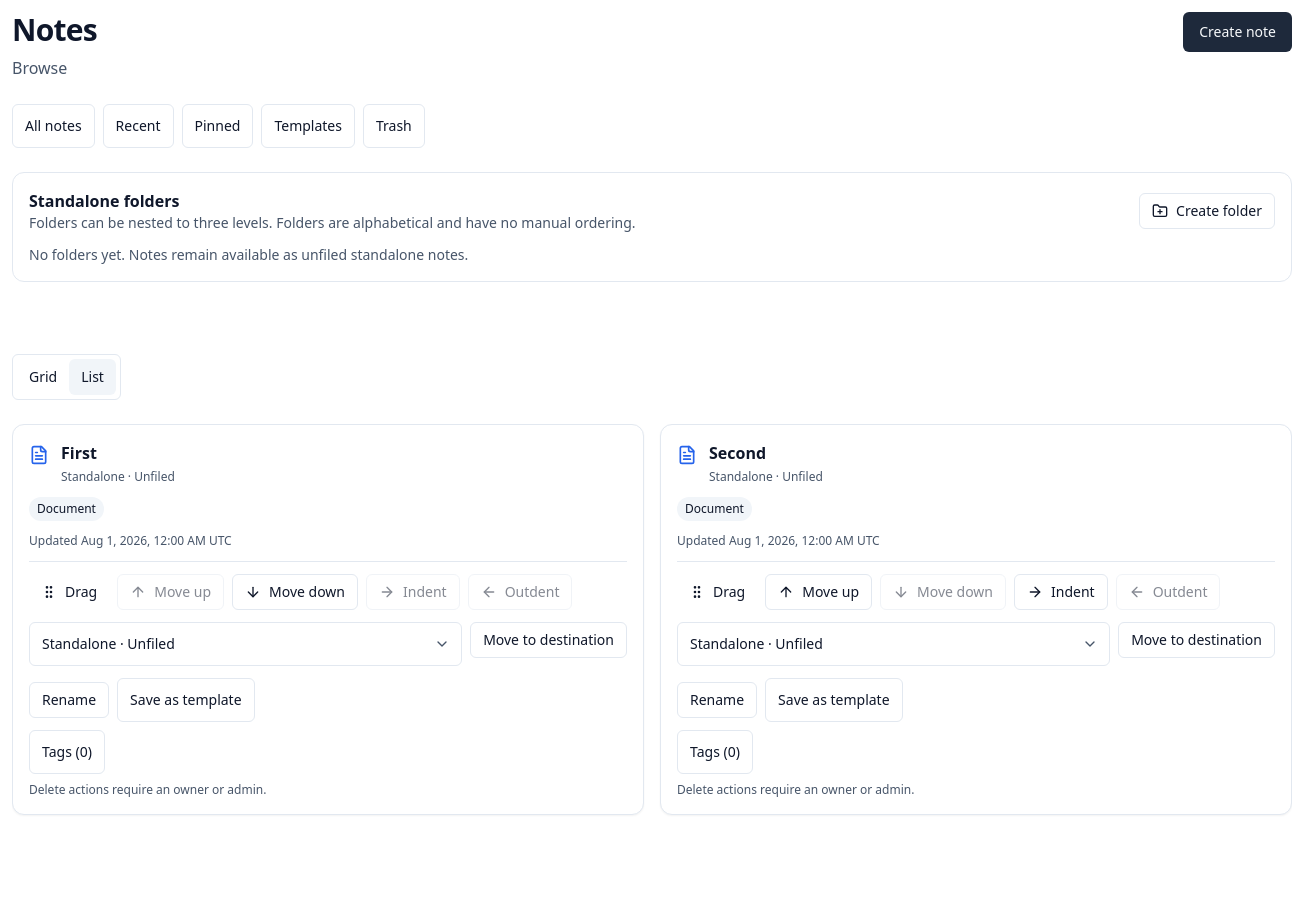
NoteBrowser optimistic behavior › restores the exact previous title/version on a 409 and offers reload
Click the button "Rename" below "First" at (69, 700), box [29,682,109,718]
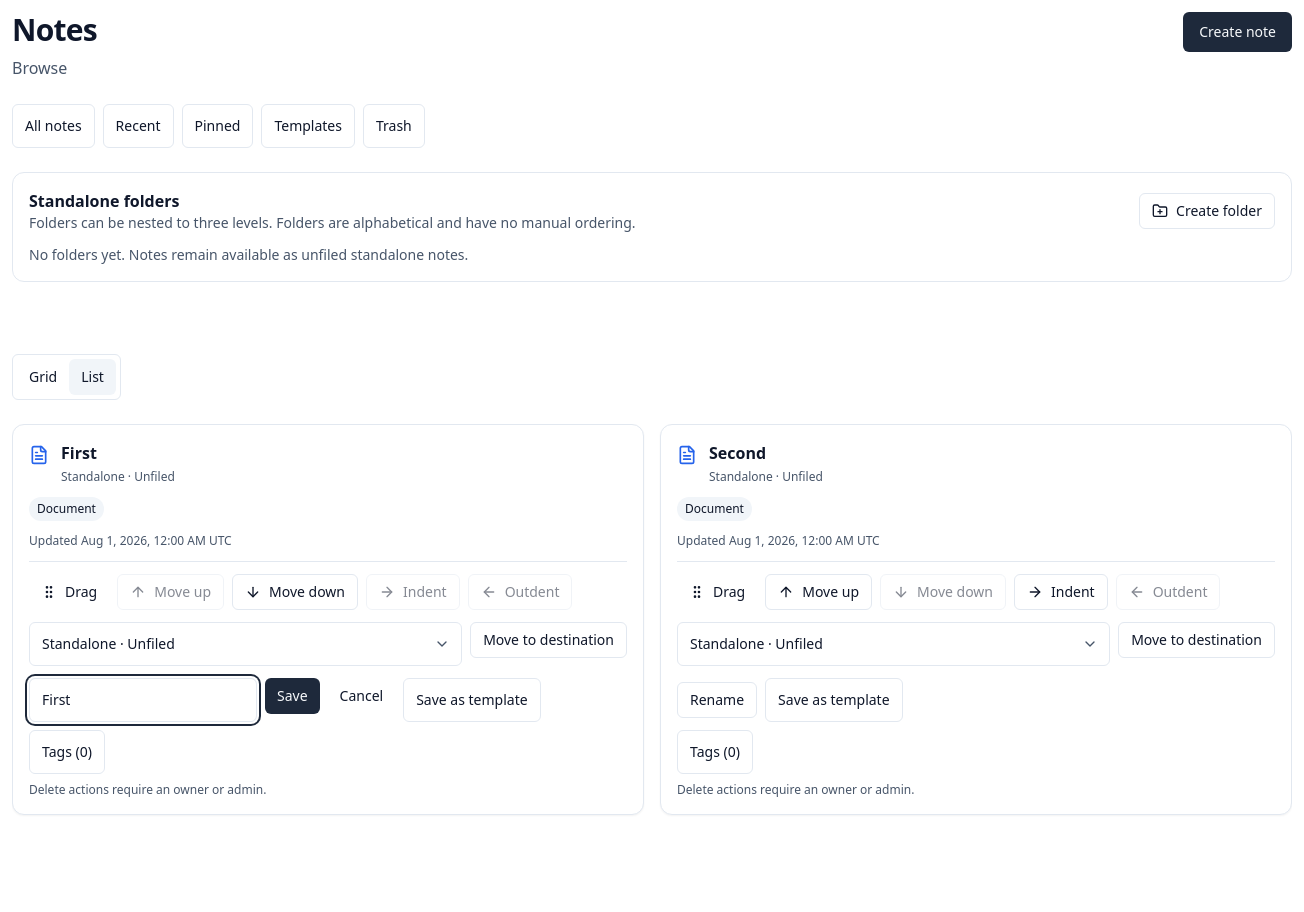
Replace the text in the field named "New note title" with "Changed" at (143, 700), box [29,678,257,722]
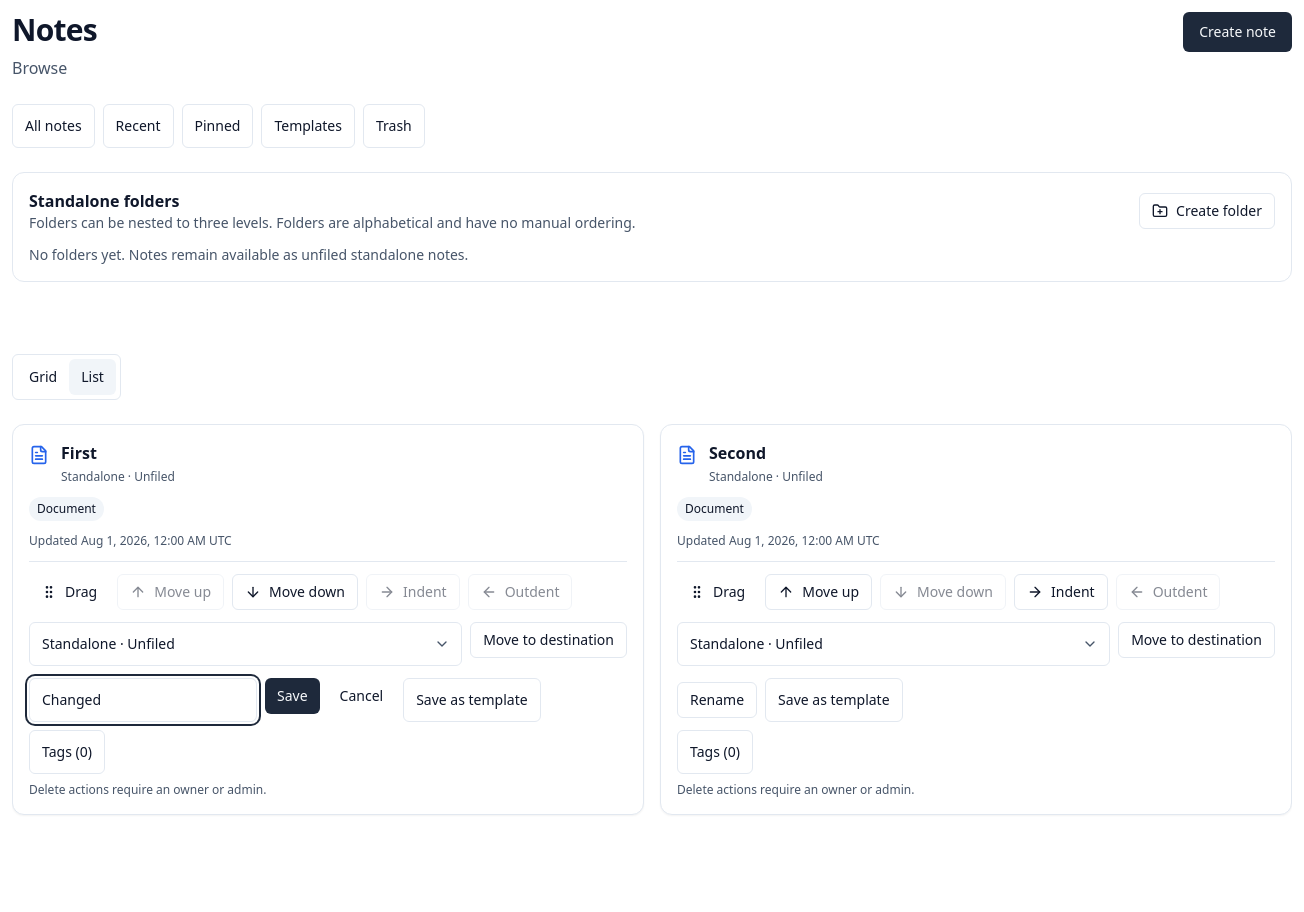
Click the button "Save" at (292, 696), box [265,678,320,714]
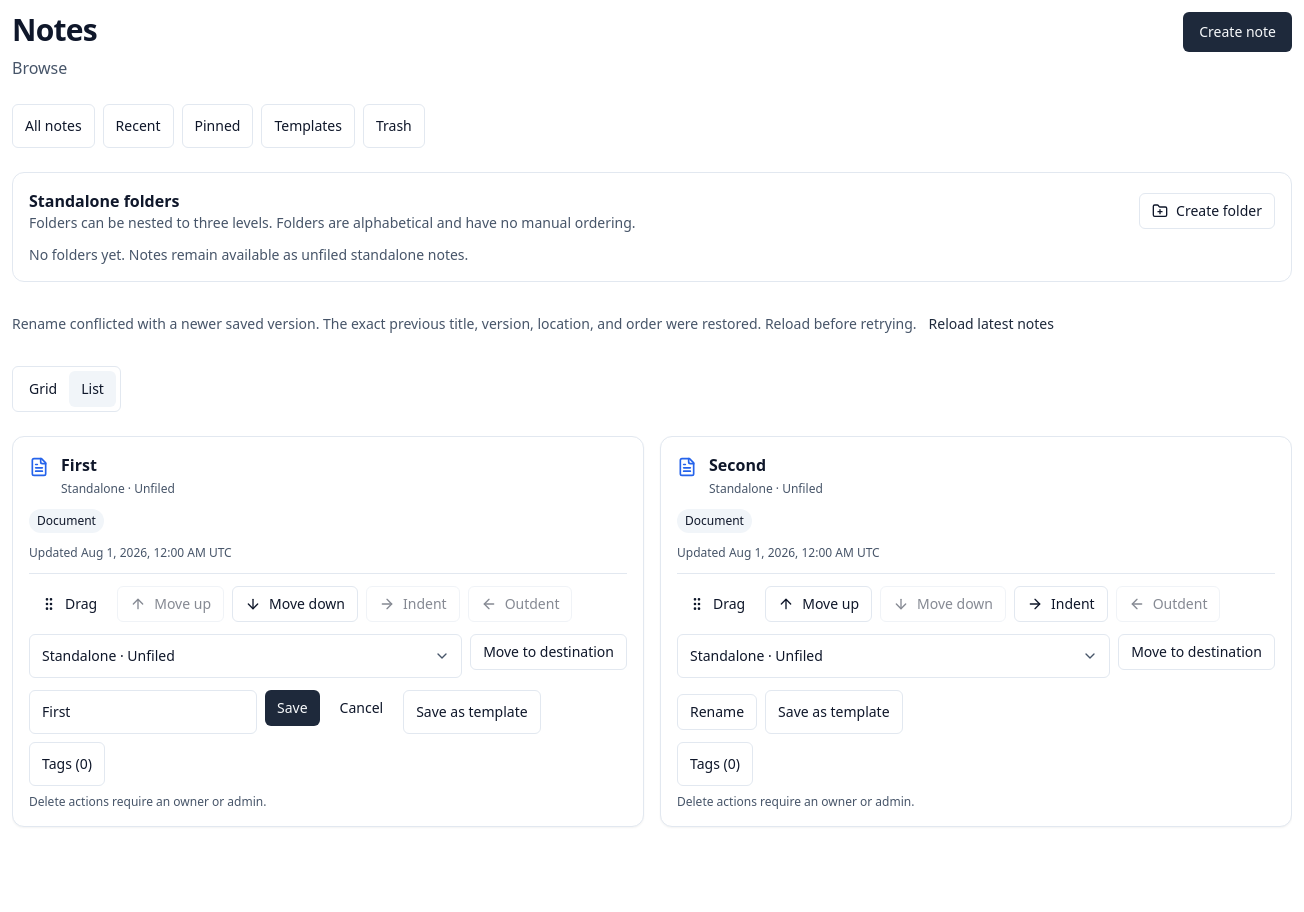
Check: the link "First" is shown, box [61,454,97,476]
Check: the text "exact previous title, version" is shown, box [12,314,916,333]
Check: the button "Reload latest notes" is shown, box [916,306,1066,342]
